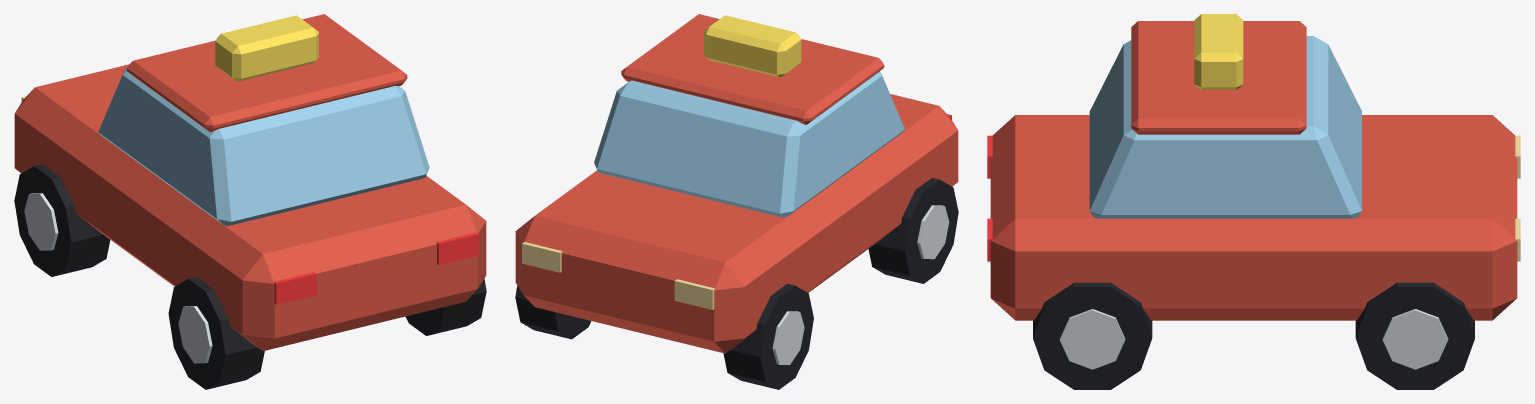
File: taxi.glb
3 views of the same model, side by side, from view 1: azimuth 30°, elevation 25°; view 2: azimuth 150°, elevation 25°; view 3: azimuth 270°, elevation 25° (orthographic). The views are drawn at different scales.
Visible parts, largest first — view 1: Body, Wheel_1L, Wheel_0L, Wheel_1R; view 2: Body, Wheel_0L, Wheel_1L, Wheel_0R; view 3: Body, Wheel_0R, Wheel_1R.
Part boxes in pixels (x1,y1,x2,y2): Body: [14, 14, 486, 350]; Wheel_1L: [168, 277, 264, 389]; Wheel_0L: [14, 164, 110, 276]; Wheel_1R: [405, 278, 486, 335]; Body: [515, 14, 958, 353]; Wheel_0L: [723, 284, 813, 389]; Wheel_1L: [868, 178, 958, 283]; Wheel_0R: [515, 286, 591, 339]; Body: [987, 14, 1520, 320]; Wheel_0R: [1355, 282, 1474, 389]; Wheel_1R: [1033, 282, 1152, 389].
Bounding box in the file's own units: 0.92 × 0.9117 × 1.52.
1 material, 1 textured.
